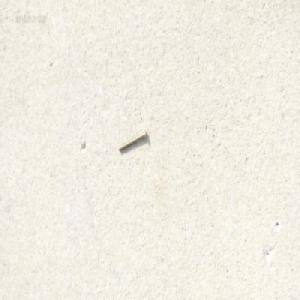Bolt: (117, 129, 146, 151)
